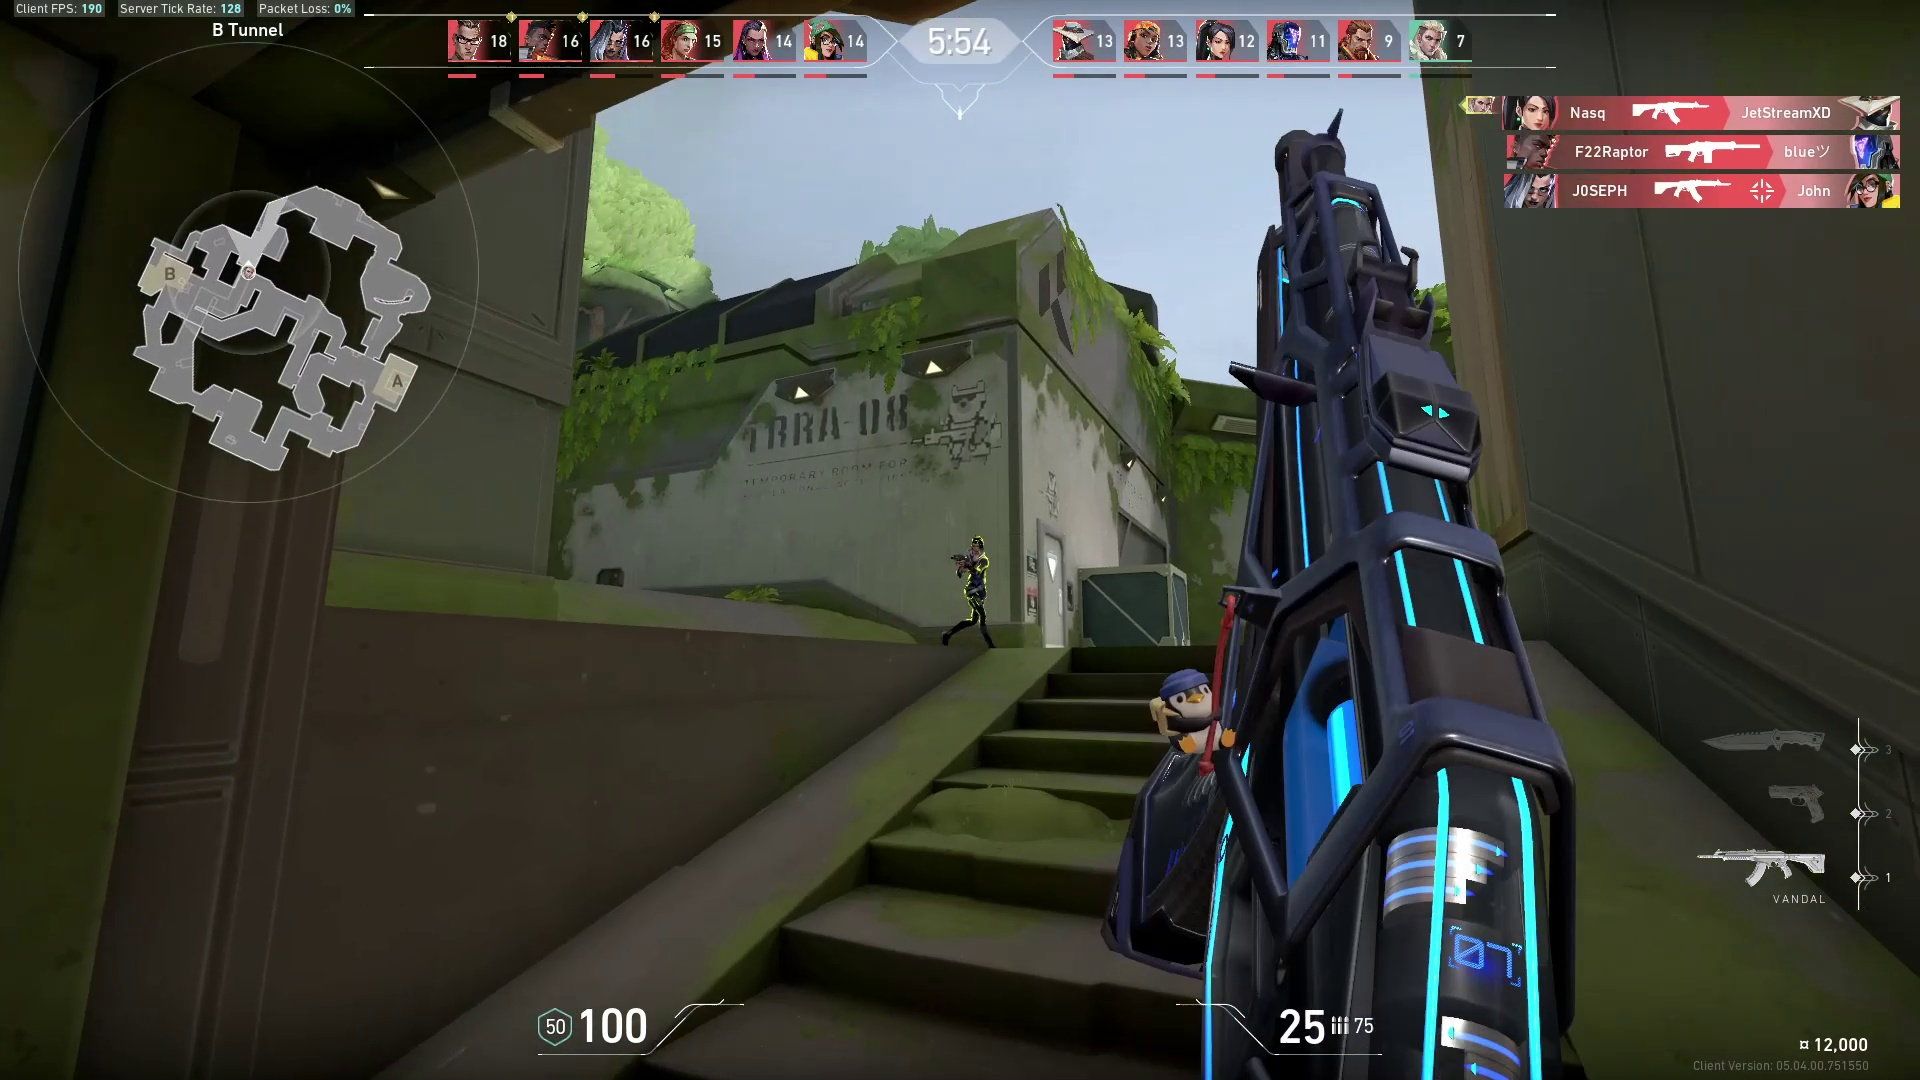enemy_body: (938, 552, 1000, 650)
enemy_head: (964, 532, 988, 556)
